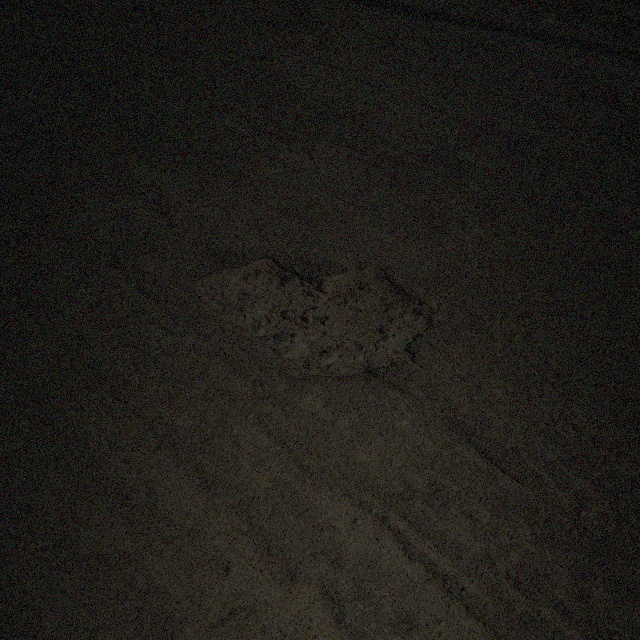pothole: (194, 253, 433, 376)
